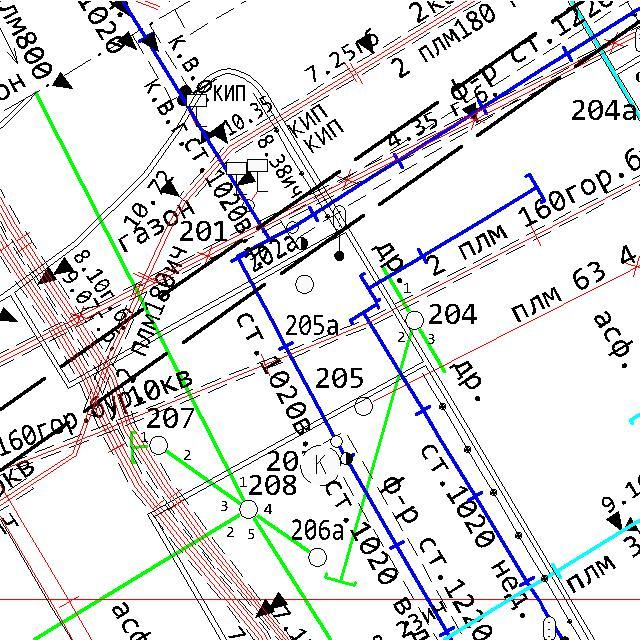asphalt: (593, 310, 636, 370)
bushes: (299, 444, 342, 487)
mark: (52, 255, 76, 276), (158, 178, 182, 198), (254, 598, 276, 619), (52, 70, 74, 90), (118, 30, 138, 51), (235, 169, 257, 188), (141, 30, 159, 53), (357, 32, 375, 55), (211, 121, 228, 145), (37, 266, 57, 286), (606, 510, 624, 532), (269, 591, 289, 610), (0, 305, 19, 324), (462, 100, 478, 122)
sing: (225, 160, 248, 196), (246, 157, 269, 193), (185, 93, 208, 128)
well: (294, 274, 315, 296), (307, 546, 328, 568), (238, 499, 259, 520), (148, 434, 168, 456), (405, 310, 425, 331), (354, 396, 374, 417)
